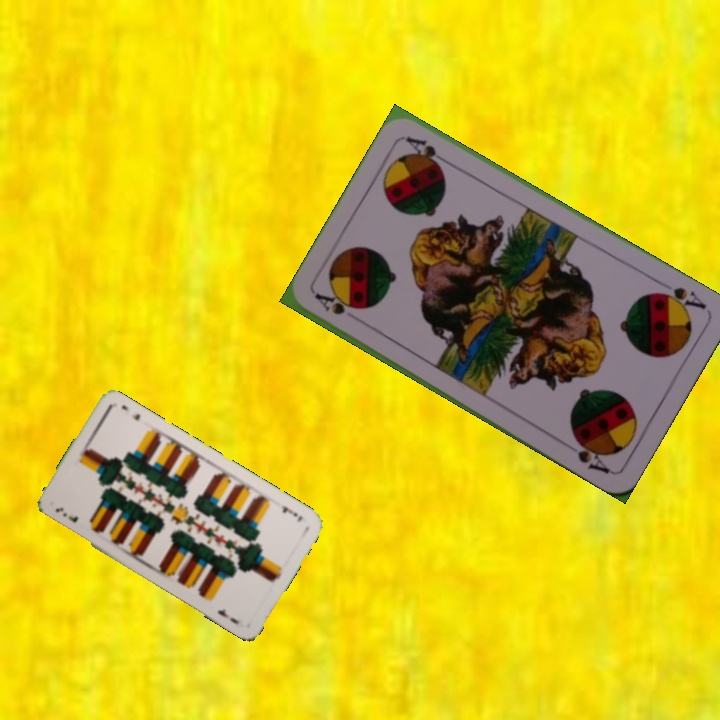E7: (276, 501, 306, 525), (51, 503, 81, 525)
SA: (650, 283, 710, 316), (311, 289, 359, 318)
